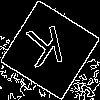K: (25, 25, 68, 78)
